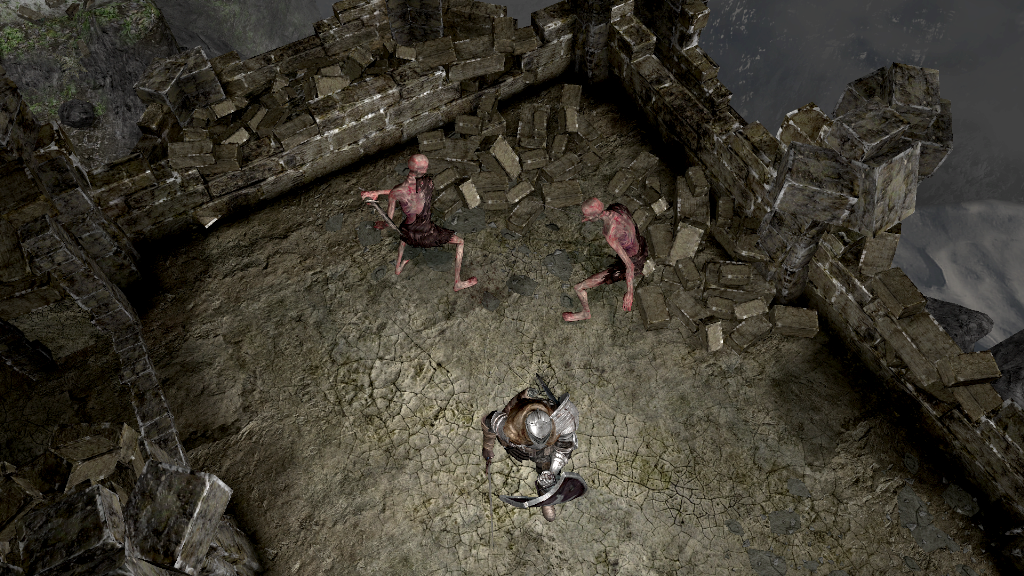hollow: (361, 153, 480, 292), (563, 197, 648, 324)
player: (480, 373, 592, 527)
